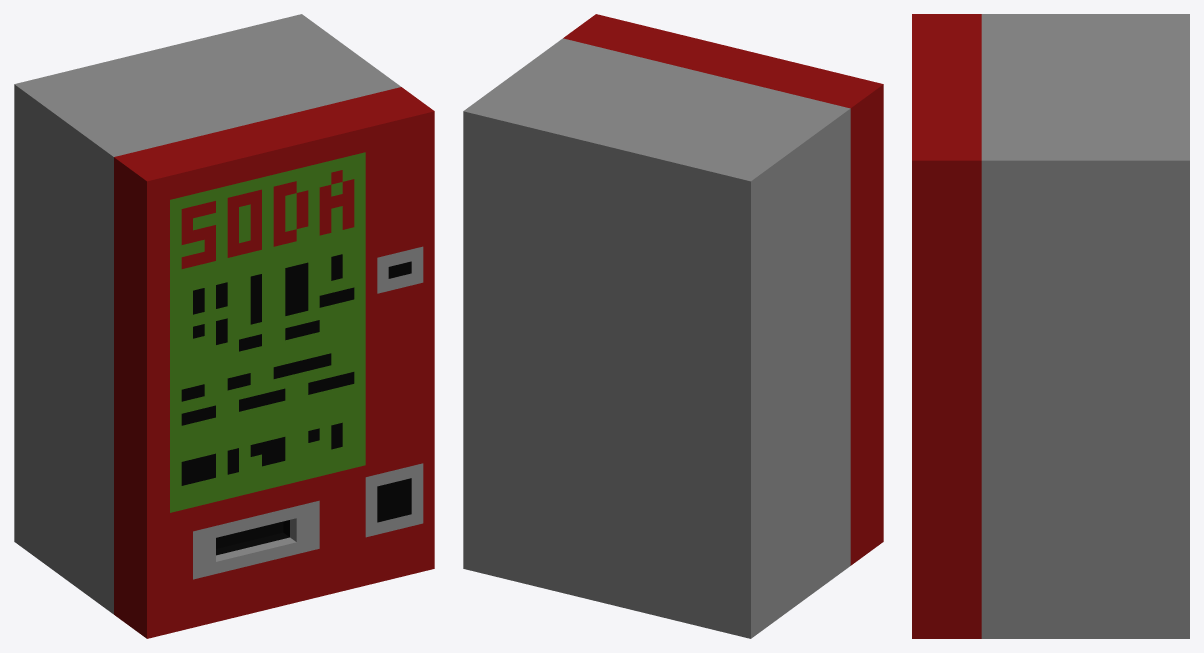
File: SodaAvtomat.obj
3 views of the same model, side by side, from view 1: azimuth 30°, elevation 25°; view 2: azimuth 150°, elevation 25°; view 3: azimuth 270°, elevation 25° (orthographic). The views are drawn at different scales.
Bounding box in the file's own units: 2.5 × 3.8 × 2.
Materials: 1 (1 with a texture image).
